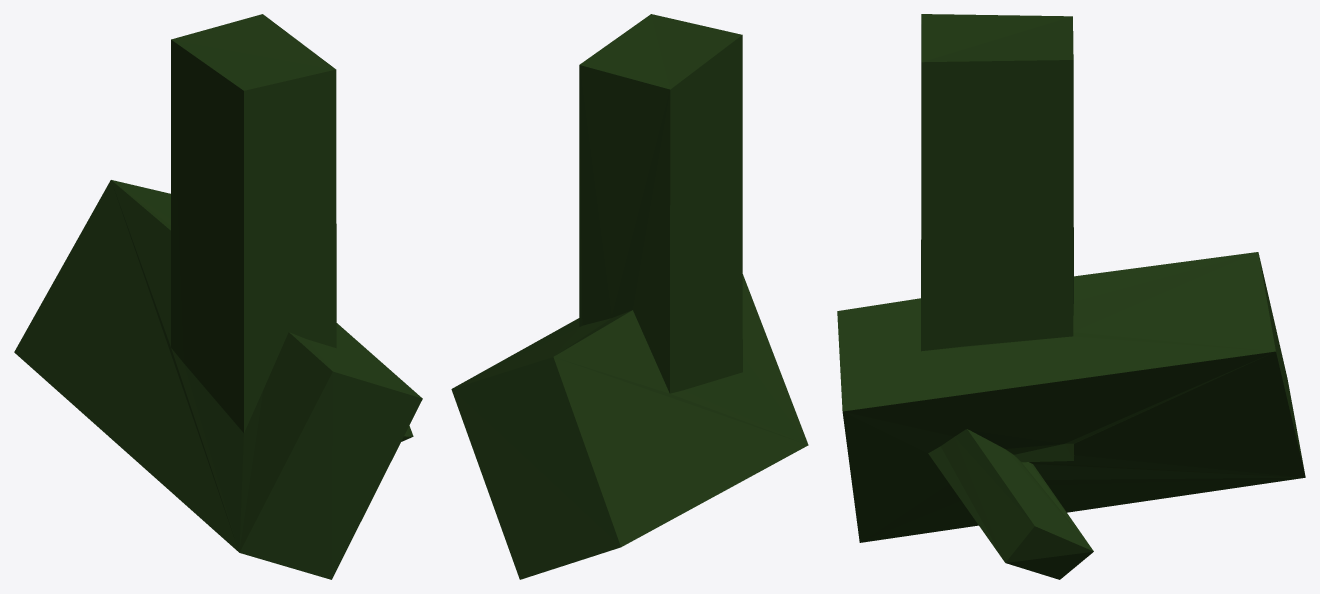
The picture shows the model from 3 angles, left to right: view 1: azimuth 30°, elevation 25°; view 2: azimuth 150°, elevation 25°; view 3: azimuth 270°, elevation 25°; orthographic projection. The views are drawn at different scales.
Parts seen in each view (by area): view 1: 669_Cube.2688; view 2: 669_Cube.2688; view 3: 669_Cube.2688.
Boxes of the visible parts, bbox=[...] form: 669_Cube.2688: bbox=[14, 14, 422, 579]; 669_Cube.2688: bbox=[451, 14, 808, 579]; 669_Cube.2688: bbox=[837, 14, 1305, 579].
Size of the model in its own units: 8.59 by 15.02 by 12.75.
